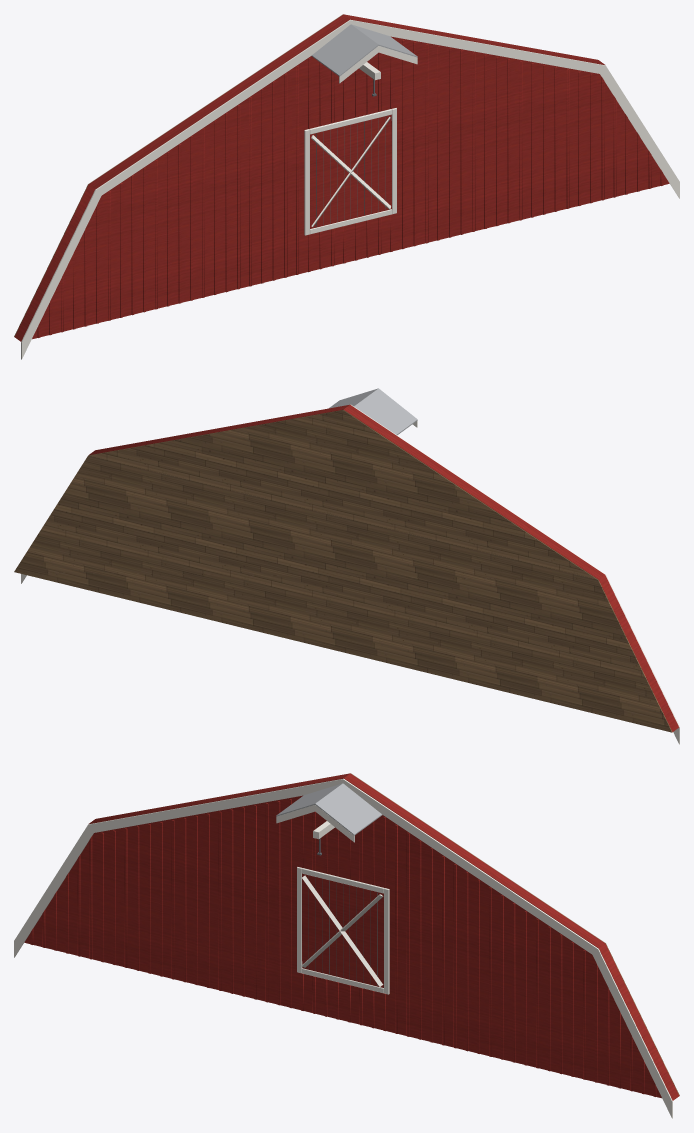
The model's file is barn_gable_front.glb.
The picture shows the model from 3 angles, top to bottom: view 1: azimuth 30°, elevation 25°; view 2: azimuth 150°, elevation 25°; view 3: azimuth 330°, elevation 25°; orthographic projection.
Visible parts, largest first — view 1: barn_gable_front_barn, barn_gable_front_trim, barn_gable_front_metal, barn_gable_front_dark; view 2: barn_gable_front_planks, barn_gable_front_barn, barn_gable_front_metal, barn_gable_front_trim; view 3: barn_gable_front_barn, barn_gable_front_trim, barn_gable_front_metal, barn_gable_front_dark.
Part boxes in pixels (bbox=[...]): barn_gable_front_barn: bbox=[14, 14, 669, 341]; barn_gable_front_trim: bbox=[21, 19, 679, 359]; barn_gable_front_metal: bbox=[311, 24, 417, 76]; barn_gable_front_dark: bbox=[316, 117, 385, 226]; barn_gable_front_planks: bbox=[14, 409, 672, 732]; barn_gable_front_barn: bbox=[89, 404, 678, 731]; barn_gable_front_metal: bbox=[329, 388, 417, 435]; barn_gable_front_trim: bbox=[21, 404, 679, 744]; barn_gable_front_barn: bbox=[24, 773, 679, 1100]; barn_gable_front_trim: bbox=[14, 778, 672, 1118]; barn_gable_front_metal: bbox=[276, 783, 382, 835]; barn_gable_front_dark: bbox=[308, 876, 377, 985].
Bounding box in the file's own units: 16 × 6.03 × 1.5.
Materials: 6 (2 with a texture image).
